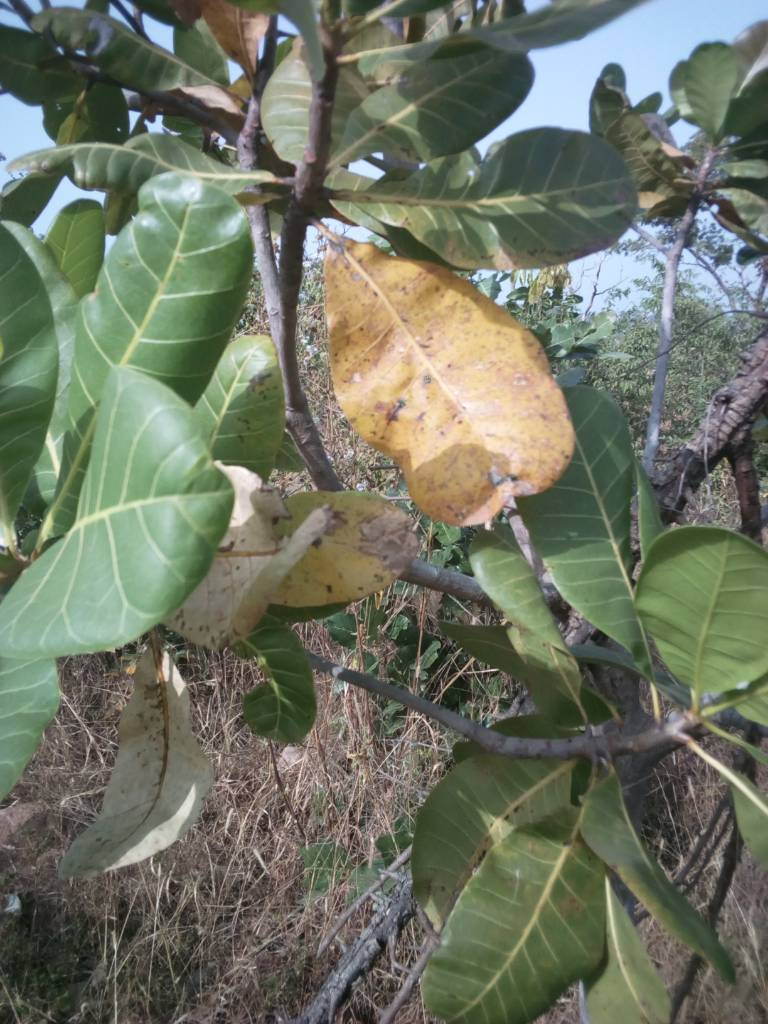Anthracnose: (321, 230, 574, 530), (280, 485, 422, 619)
